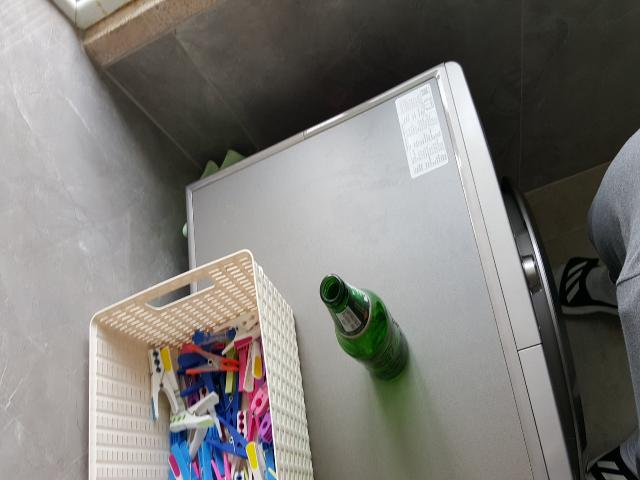beer: (321, 273, 409, 379)
